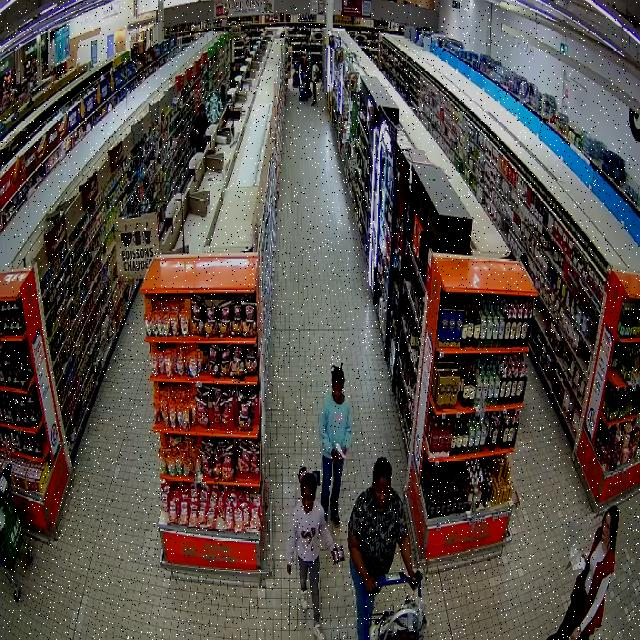article: (331, 545, 346, 564), (335, 442, 347, 459)
hands: (363, 574, 378, 593), (330, 449, 341, 466), (569, 625, 582, 639), (285, 564, 292, 574), (342, 446, 347, 454)
person: (348, 458, 415, 639), (287, 467, 343, 639), (547, 506, 618, 639), (320, 363, 353, 526)
